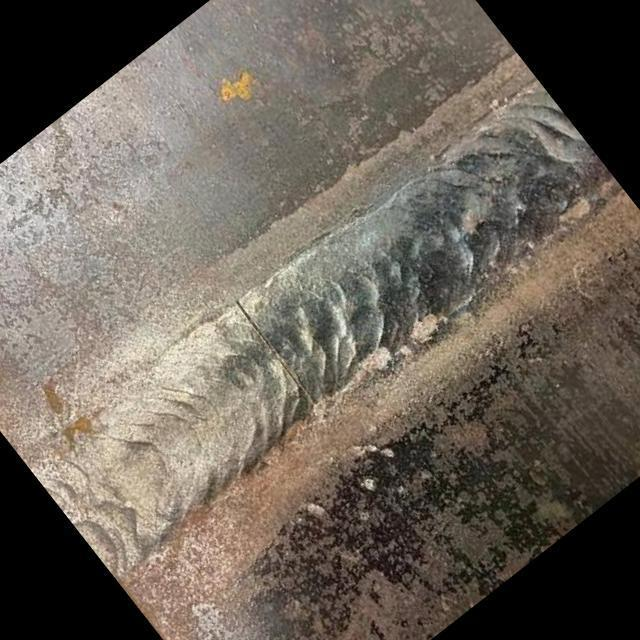defect: (231, 294, 324, 411)
